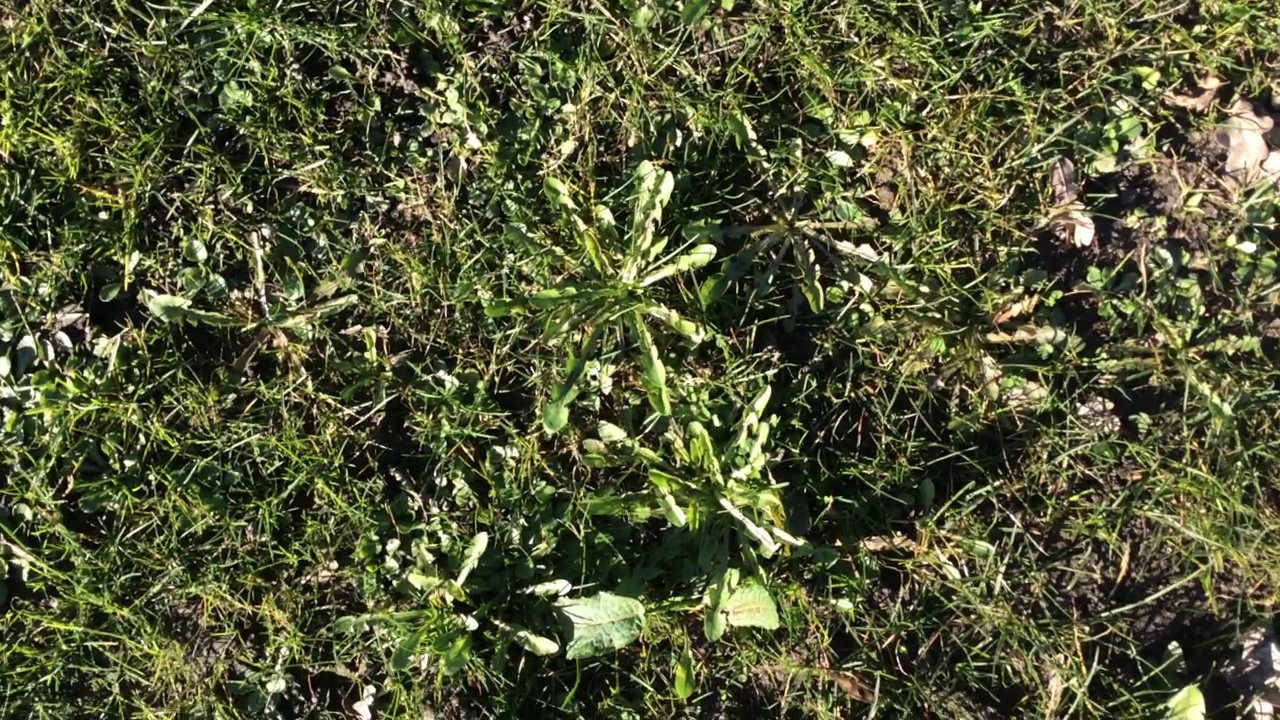rumex: (517, 594, 647, 661), (715, 585, 780, 628)
